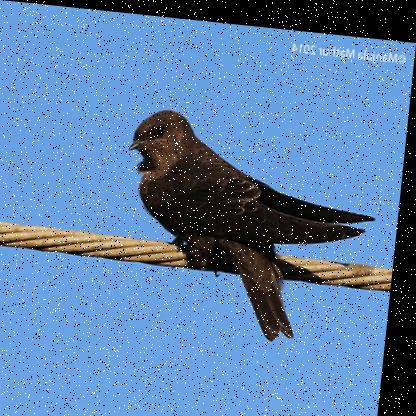Burung: (119, 103, 388, 342)
